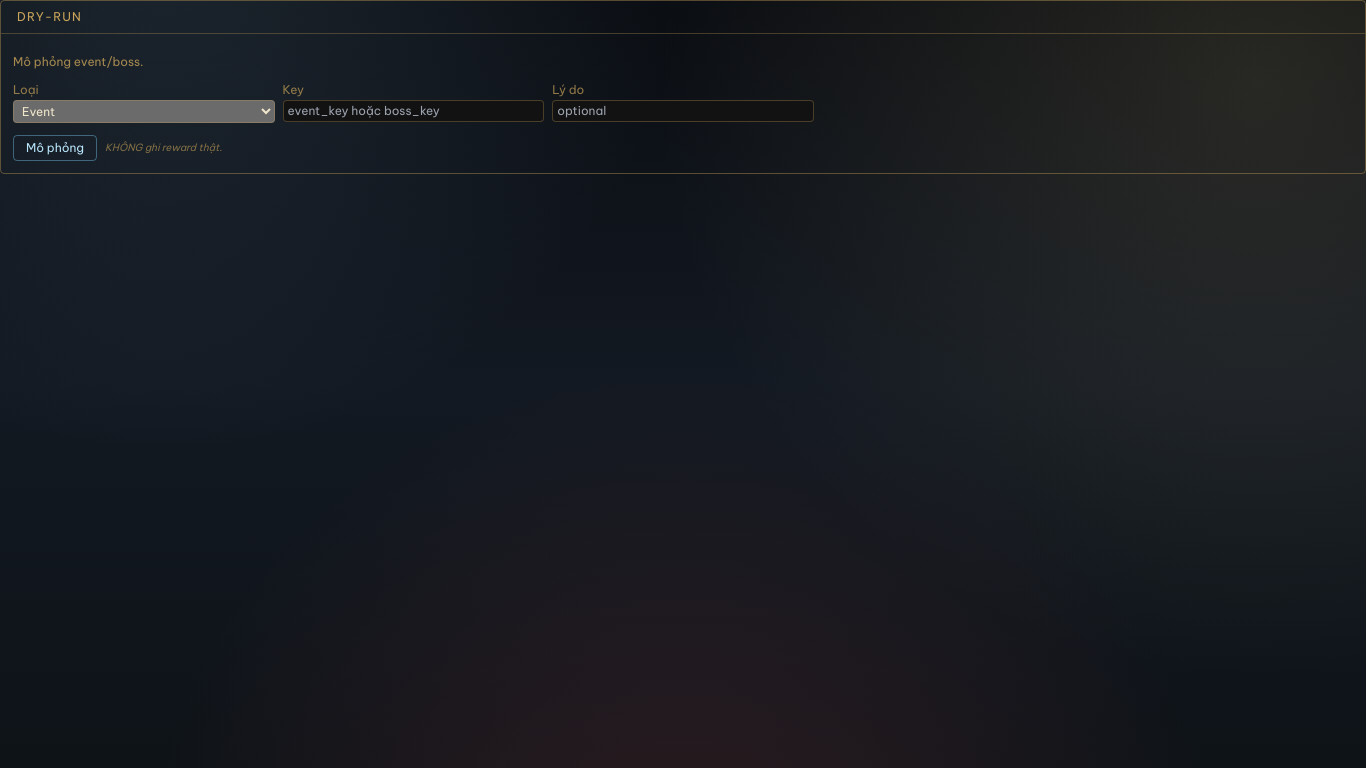
Scenario: AdminLiveOpsDryRunPanel › submit event dry-run: gọi adminLiveOpsDryRun với { kind:"event", key, reason } + render event result
This screenshot has width=1366, height=768.
Type "ev_daily" into the field with test id "admin-liveops-dryrun-key" at (413, 111), box [283,100,544,122]
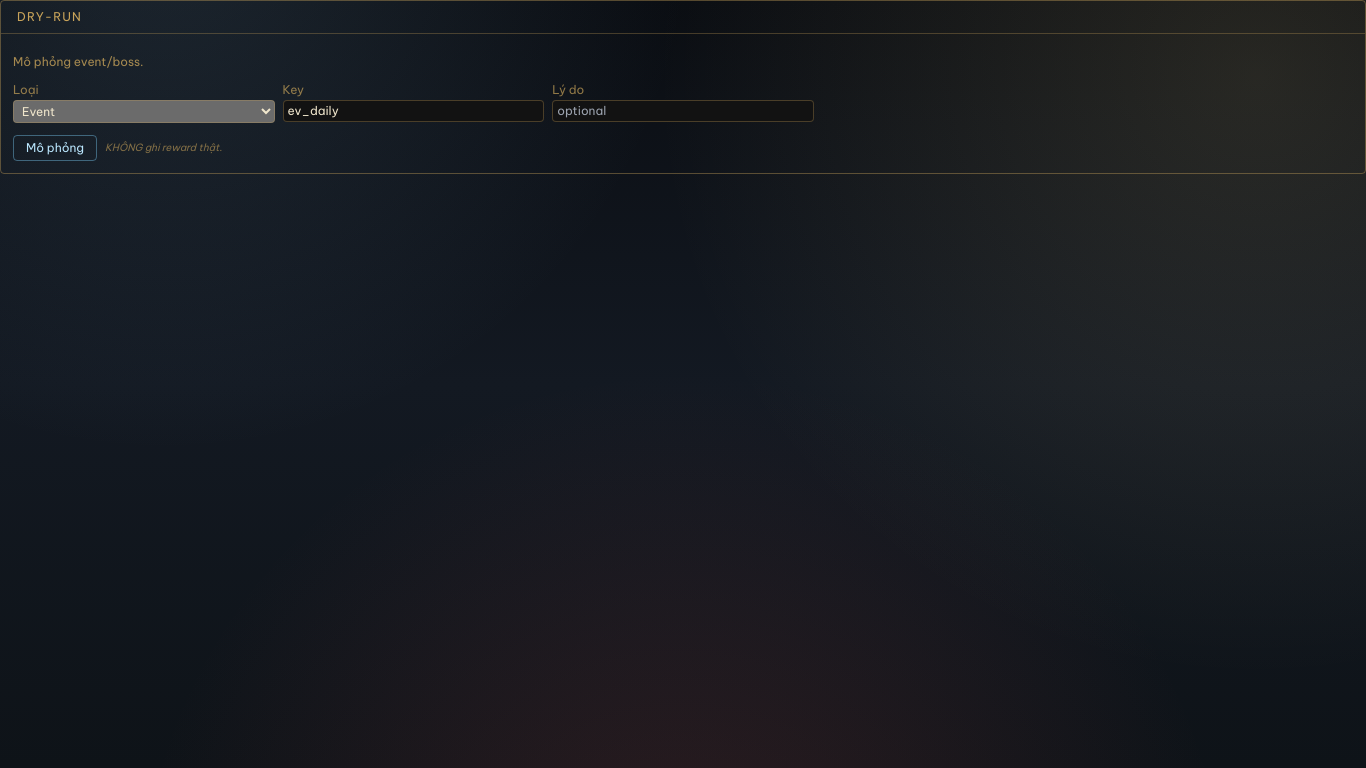
Type "preview event" into the field with test id "admin-liveops-dryrun-reason" at (683, 111), box [552,100,814,122]
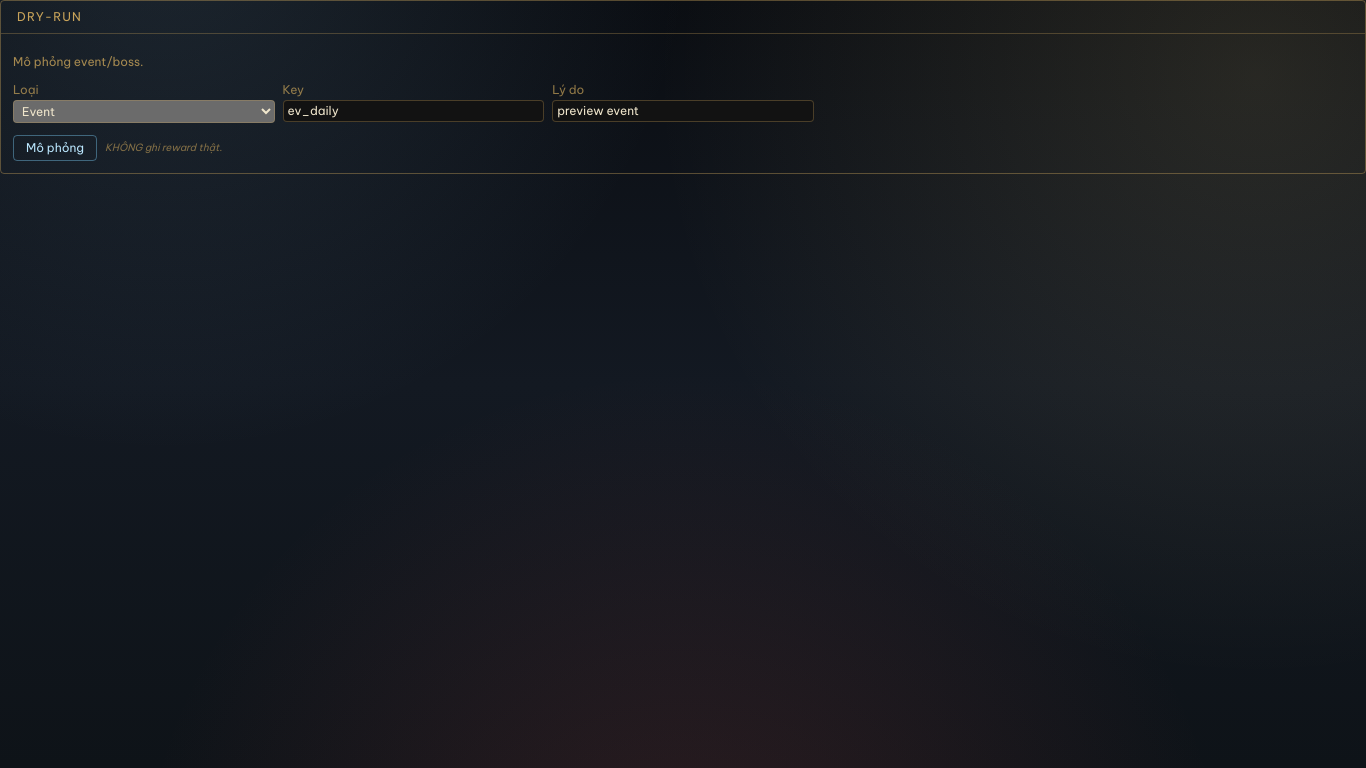
Click the button with test id "admin-liveops-dryrun-submit" at (55, 148), box [13,135,97,161]
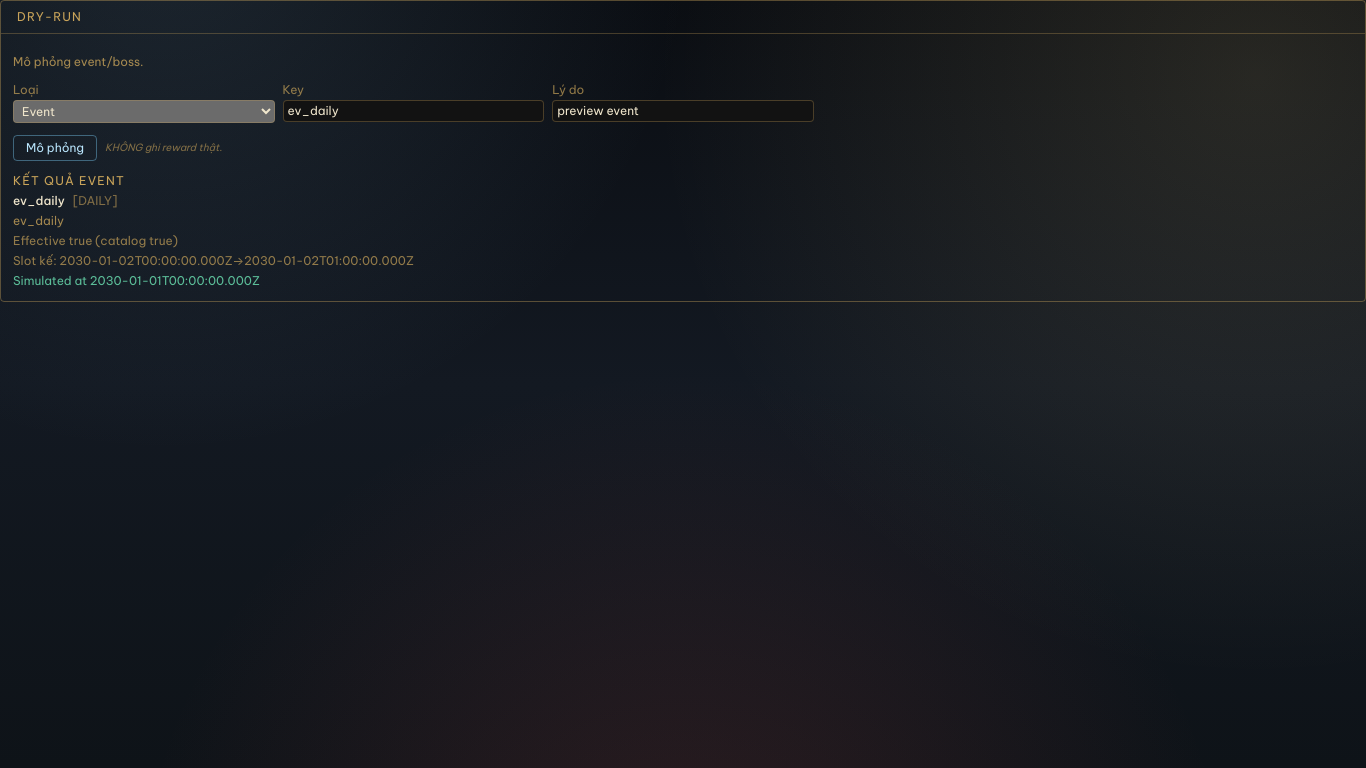
Result: the element with test id "admin-liveops-dryrun-result-event" is shown at [13,173,414,288]
Result: the text "ev_daily" is shown at [13,193,65,208]
